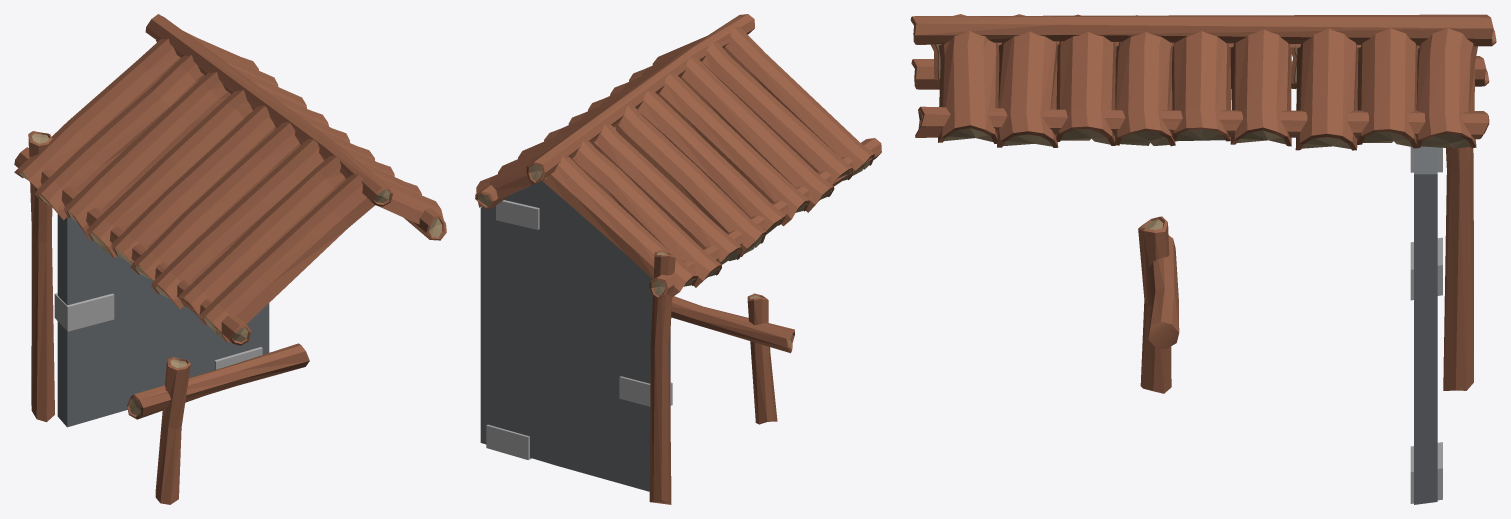
The model's file is LightStoneBuildingSmallLeanTo1.fbx.
3 renders of one model, left to right at view 1: azimuth 30°, elevation 25°; view 2: azimuth 150°, elevation 25°; view 3: azimuth 270°, elevation 25°, orthographic. The views are drawn at different scales.
Visible parts, largest first — view 1: LightStoneBuildingSmallLeanTo1; view 2: LightStoneBuildingSmallLeanTo1; view 3: LightStoneBuildingSmallLeanTo1.
Boxes of the visible parts, x1,y1,x2,y2 form: LightStoneBuildingSmallLeanTo1: [14, 14, 446, 504]; LightStoneBuildingSmallLeanTo1: [475, 14, 881, 504]; LightStoneBuildingSmallLeanTo1: [910, 14, 1496, 504].
Bounding box in the file's own units: 566 × 798 × 935.
